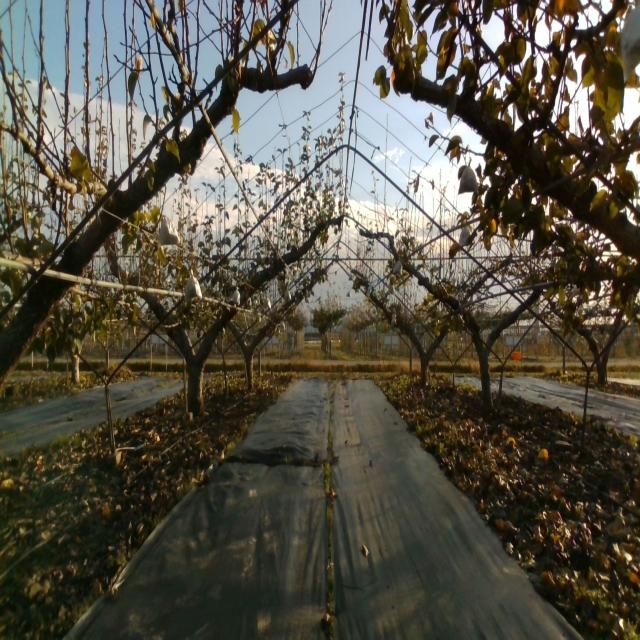pearbags: (458, 156, 478, 196), (158, 216, 180, 247), (184, 270, 202, 300), (458, 227, 471, 247)
